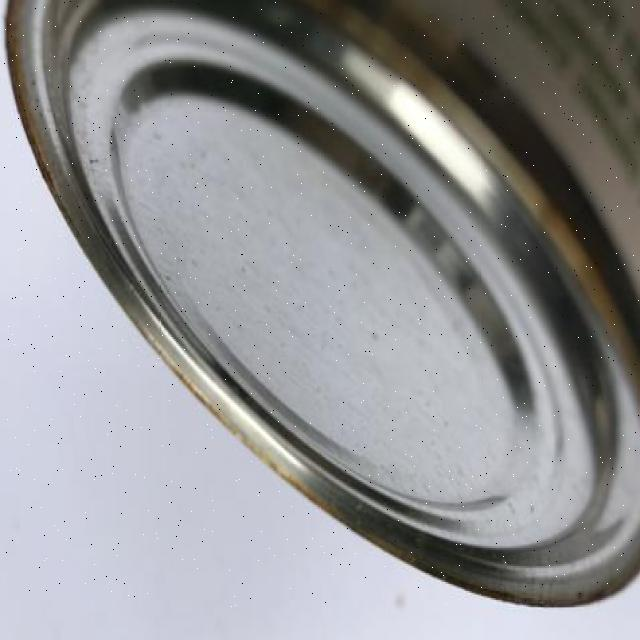metal: (4, 1, 640, 606)
